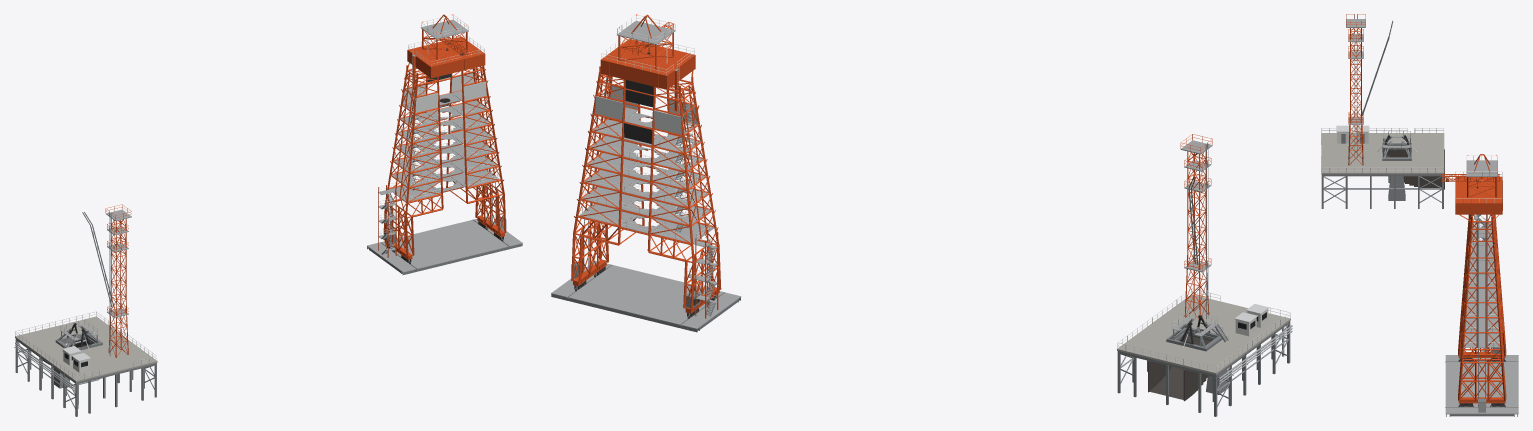
File: 1965-10-pad.glb
3 renders of one model, left to right at view 1: azimuth 30°, elevation 25°; view 2: azimuth 150°, elevation 25°; view 3: azimuth 270°, elevation 25°, orthographic. The views are drawn at different scales.
Visible parts, largest first — view 1: ServiceStructure_Tower_Orange, ServiceStructure_Tower_Deck, LaunchStand_Concrete, TransferTable_Deck, ServiceStructure_Tower_OrangeHead, LaunchStand_GreyFrame, AgenaUmbilicalTower_Orange, ServiceStructure_Tower_WhiteRails, ServiceStructure_Tower_AluminiumCleanroom, LaunchStand_GalvRail, AgenaUmbilicalTower_Deck, ServiceStructure_Tower_GreyStair (+2 smaller); view 2: ServiceStructure_Tower_Orange, ServiceStructure_Tower_Deck, LaunchStand_Concrete, TransferTable_Deck, ServiceStructure_Tower_OrangeHead, LaunchStand_GreyFrame, AgenaUmbilicalTower_Orange, ServiceStructure_Tower_WhiteRails, ServiceStructure_Tower_AluminiumCleanroom, ServiceStructure_Tower_BlackScreen, FlameDeflector_ScorchedWalls, AgenaUmbilicalTower_Deck (+5 smaller); view 3: ServiceStructure_Tower_Orange, LaunchStand_Concrete, ServiceStructure_Tower_Deck, TransferTable_Deck, ServiceStructure_Tower_OrangeHead, LaunchStand_GreyFrame, AgenaUmbilicalTower_Orange, FlameDeflector_ScorchedWalls, LaunchStand_GalvRail, AgenaUmbilicalTower_Deck, LaunchStand_Grey, ServiceStructure_Tower_WhiteRails (+8 smaller).
Part boxes in pixels (x1,y1,x2,y2): ServiceStructure_Tower_Orange: [378, 14, 506, 257]; ServiceStructure_Tower_Deck: [378, 19, 499, 251]; LaunchStand_Concrete: [15, 316, 157, 382]; TransferTable_Deck: [367, 216, 522, 272]; ServiceStructure_Tower_OrangeHead: [407, 36, 485, 78]; LaunchStand_GreyFrame: [15, 338, 156, 416]; AgenaUmbilicalTower_Orange: [105, 204, 131, 357]; ServiceStructure_Tower_WhiteRails: [389, 15, 499, 199]; ServiceStructure_Tower_AluminiumCleanroom: [402, 73, 486, 112]; LaunchStand_GalvRail: [15, 311, 156, 378]; AgenaUmbilicalTower_Deck: [106, 209, 131, 317]; ServiceStructure_Tower_GreyStair: [381, 91, 418, 254]; ServiceStructure_Tower_Orange: [571, 14, 721, 318]; ServiceStructure_Tower_Deck: [579, 21, 717, 303]; LaunchStand_Concrete: [1117, 294, 1290, 374]; TransferTable_Deck: [551, 260, 741, 329]; ServiceStructure_Tower_OrangeHead: [600, 39, 695, 89]; LaunchStand_GreyFrame: [1117, 321, 1290, 416]; AgenaUmbilicalTower_Orange: [1180, 134, 1212, 319]; ServiceStructure_Tower_WhiteRails: [579, 15, 713, 240]; ServiceStructure_Tower_AluminiumCleanroom: [595, 86, 697, 134]; ServiceStructure_Tower_BlackScreen: [624, 80, 653, 143]; FlameDeflector_ScorchedWalls: [1148, 334, 1211, 401]; AgenaUmbilicalTower_Deck: [1180, 140, 1212, 272]; ServiceStructure_Tower_Orange: [1441, 154, 1506, 400]; LaunchStand_Concrete: [1321, 133, 1444, 174]; ServiceStructure_Tower_Deck: [1464, 160, 1499, 351]; TransferTable_Deck: [1445, 355, 1518, 414]; ServiceStructure_Tower_OrangeHead: [1455, 176, 1502, 214]; LaunchStand_GreyFrame: [1321, 149, 1443, 208]; AgenaUmbilicalTower_Orange: [1346, 14, 1365, 165]; FlameDeflector_ScorchedWalls: [1386, 149, 1444, 189]; LaunchStand_GalvRail: [1321, 128, 1443, 172]; AgenaUmbilicalTower_Deck: [1346, 19, 1365, 124]; LaunchStand_Grey: [1360, 134, 1408, 200]; ServiceStructure_Tower_WhiteRails: [1455, 155, 1502, 346].
Bounding box in the file's own units: 114 × 50.13 × 38.15.
